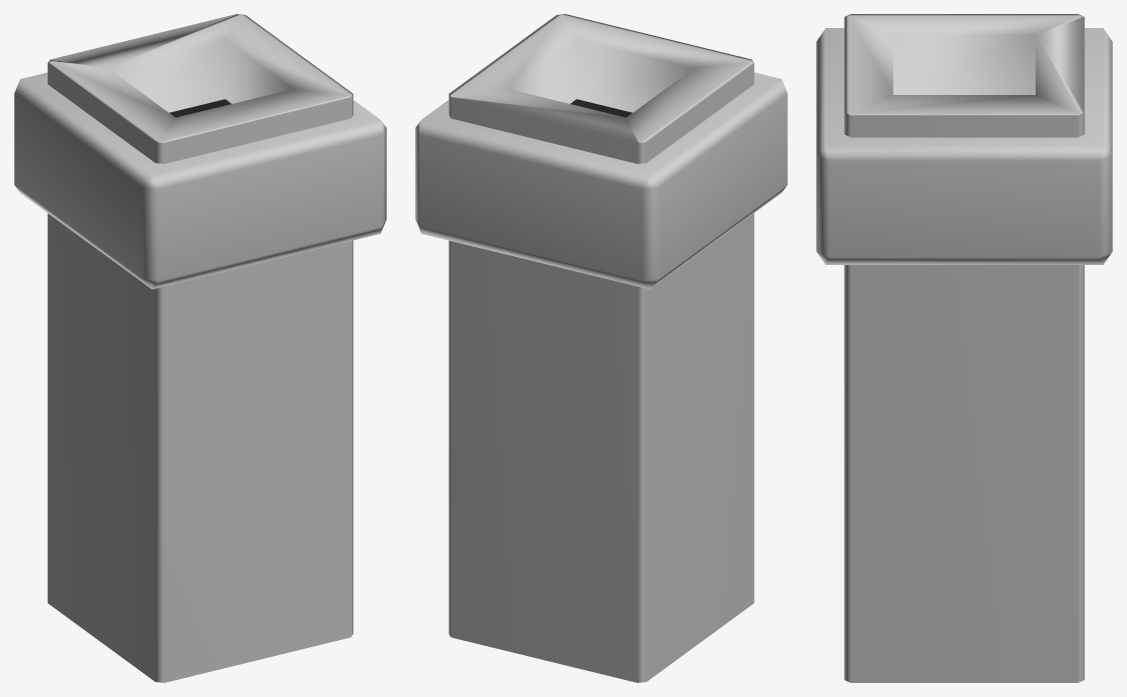
Rendered from Chimney4.fbx.
The picture shows the model from 3 angles, left to right: view 1: azimuth 30°, elevation 25°; view 2: azimuth 150°, elevation 25°; view 3: azimuth 270°, elevation 25°; orthographic projection. The views are drawn at different scales.
Visible parts, largest first — view 1: Mesh; view 2: Mesh; view 3: Mesh.
Boxes of the visible parts, <box> form: Mesh: <box>14,14,386,682</box>; Mesh: <box>415,14,787,682</box>; Mesh: <box>816,14,1112,682</box>.
Size of the model in its own units: 169 by 357 by 169.
2 materials, 1 textured.
